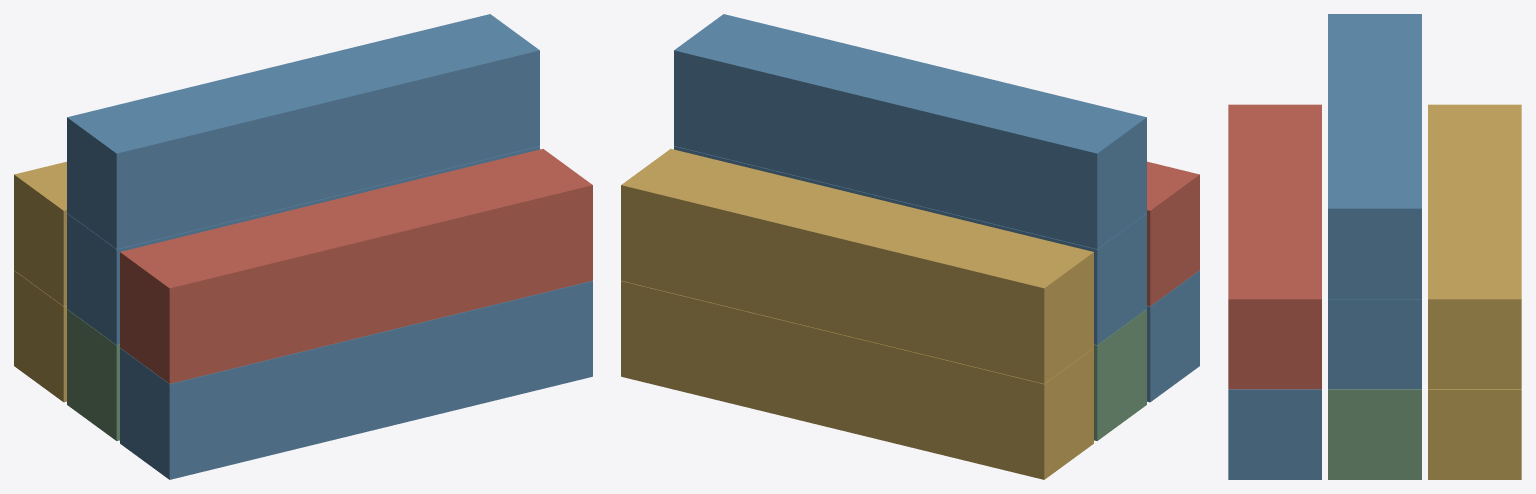
File: ContainerStack.glb
3 views of the same model, side by side, from view 1: azimuth 30°, elevation 25°; view 2: azimuth 150°, elevation 25°; view 3: azimuth 270°, elevation 25° (orthographic). The views are drawn at different scales.
Parts seen in each view (by area): view 1: Container.001, Container.004, Container, Container.003, Container.006, Container.002, Container.005; view 2: Container.004, Container.006, Container.005, Container.003, Container.001, Container, Container.002; view 3: Container.001, Container.006, Container.004, Container, Container.002, Container.003, Container.005.
Boxes of the visible parts, <box> form: Container.001: <box>120,149,592,383</box>; Container.004: <box>67,14,539,248</box>; Container: <box>120,281,592,479</box>; Container.003: <box>67,146,539,344</box>; Container.006: <box>14,161,66,306</box>; Container.002: <box>67,309,119,440</box>; Container.005: <box>14,270,66,402</box>; Container.004: <box>674,14,1146,248</box>; Container.006: <box>621,149,1093,383</box>; Container.005: <box>621,281,1093,479</box>; Container.003: <box>674,146,1146,344</box>; Container.001: <box>1147,161,1199,306</box>; Container: <box>1147,270,1199,402</box>; Container.002: <box>1094,309,1146,440</box>; Container.001: <box>1228,104,1321,389</box>; Container.006: <box>1428,104,1521,389</box>; Container.004: <box>1328,14,1421,298</box>; Container: <box>1228,389,1321,479</box>; Container.002: <box>1328,389,1421,479</box>; Container.003: <box>1328,299,1421,389</box>; Container.005: <box>1428,389,1521,479</box>.
Size of the model in its own units: 12 by 7.79 by 7.64.
